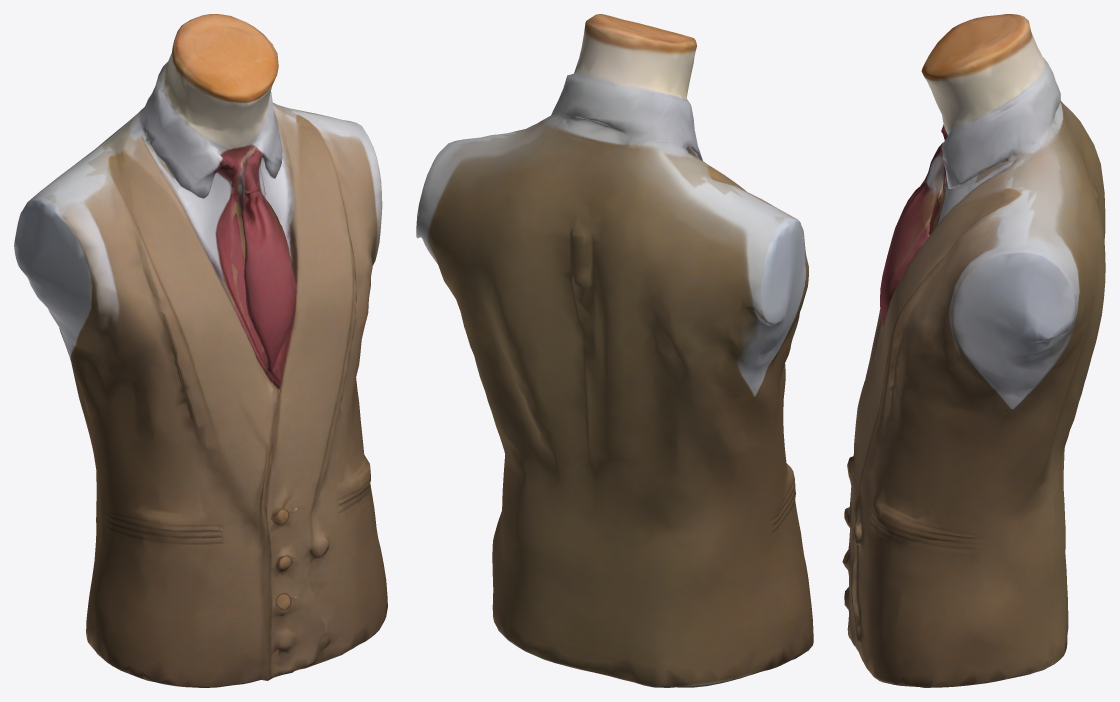
The model's file is Tan_Double_Breasted_W_1213061544_texture.glb.
3 views of the same model, side by side, from view 1: azimuth 30°, elevation 25°; view 2: azimuth 150°, elevation 25°; view 3: azimuth 270°, elevation 25° (orthographic). The views are drawn at different scales.
Size of the model in its own units: 1.18 by 2.01 by 0.7778.
1 material, 1 textured.
